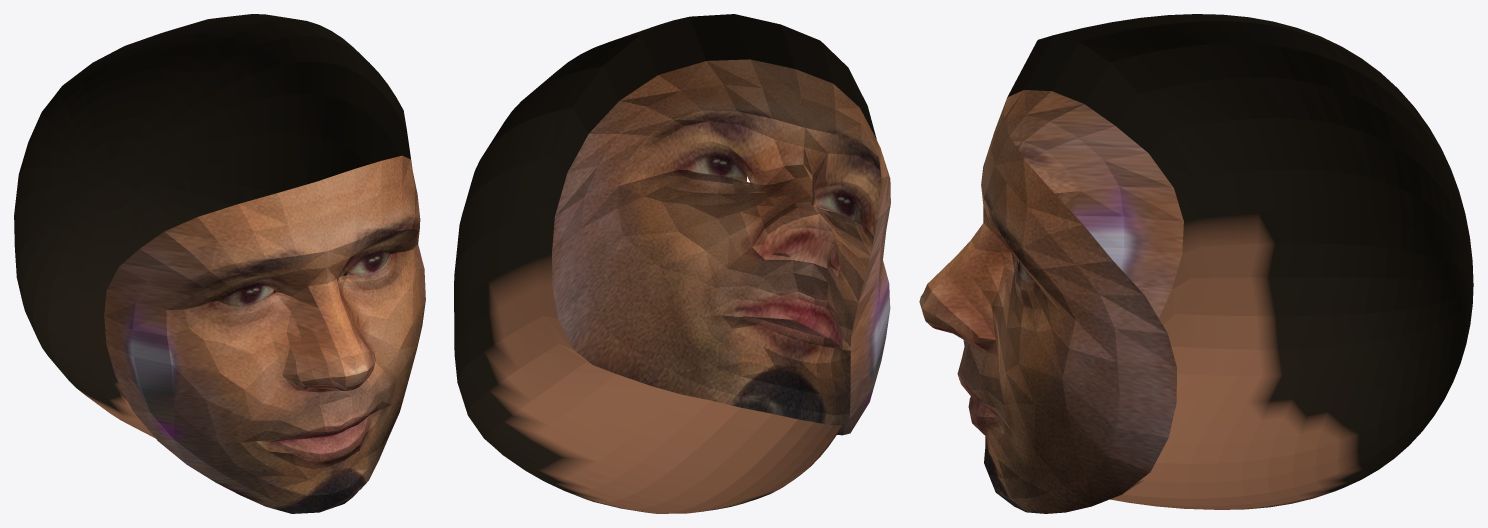
The picture shows the model from 3 angles, left to right: view 1: azimuth 30°, elevation 25°; view 2: azimuth 150°, elevation 25°; view 3: azimuth 270°, elevation 25°; orthographic projection. The views are drawn at different scales.
Visible parts, largest first — view 1: face, head; view 2: face, head; view 3: head, face.
Boxes of the visible parts, bbox=[...] form: face: bbox=[104, 155, 425, 513]; head: bbox=[14, 14, 411, 437]; face: bbox=[552, 59, 890, 435]; head: bbox=[454, 14, 876, 513]; head: bbox=[1007, 14, 1473, 509]; face: bbox=[919, 90, 1183, 513].
Size of the model in its own units: 0.1683 by 0.2025 by 0.2239.
Materials: 1 (1 with a texture image).
